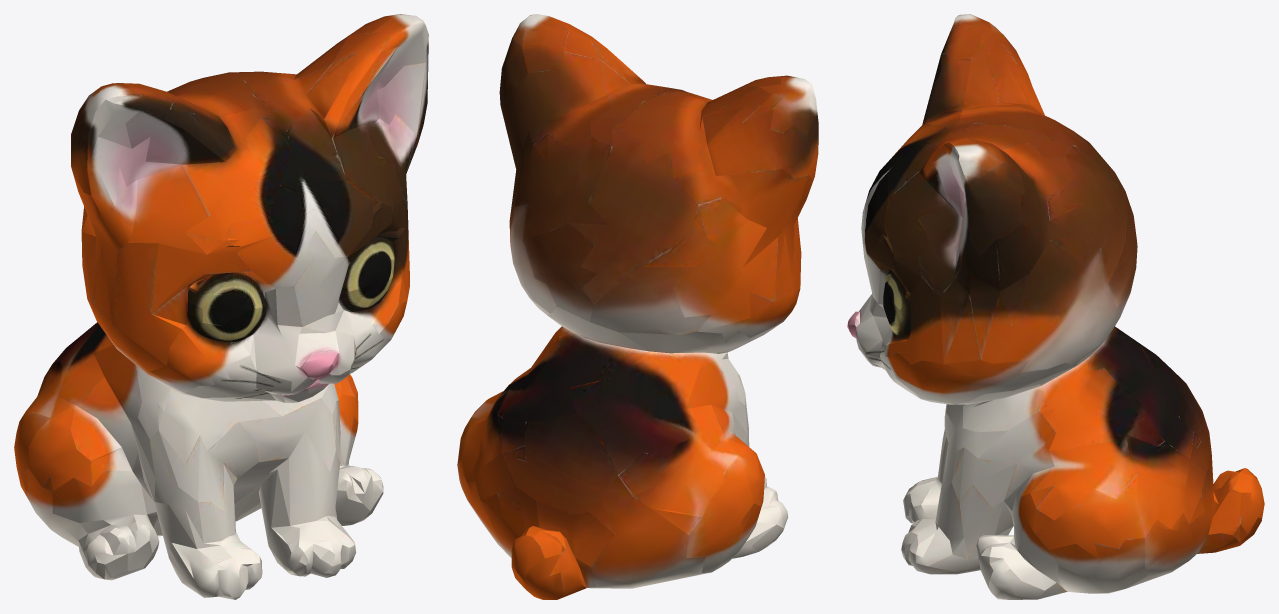
The picture shows the model from 3 angles, left to right: view 1: azimuth 30°, elevation 25°; view 2: azimuth 150°, elevation 25°; view 3: azimuth 270°, elevation 25°; orthographic projection. The views are drawn at different scales.
Bounding box in the file's own units: 0.7189 × 1 × 0.8147.
1 material, 1 textured.
